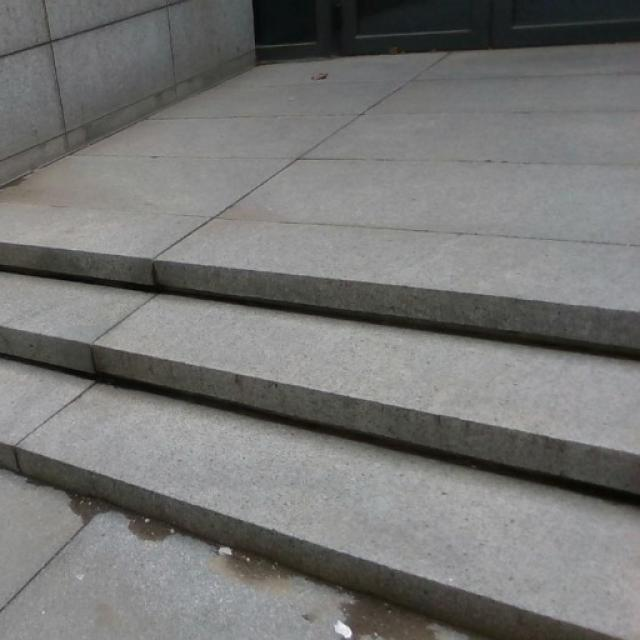Stairs: (0, 236, 639, 639)
